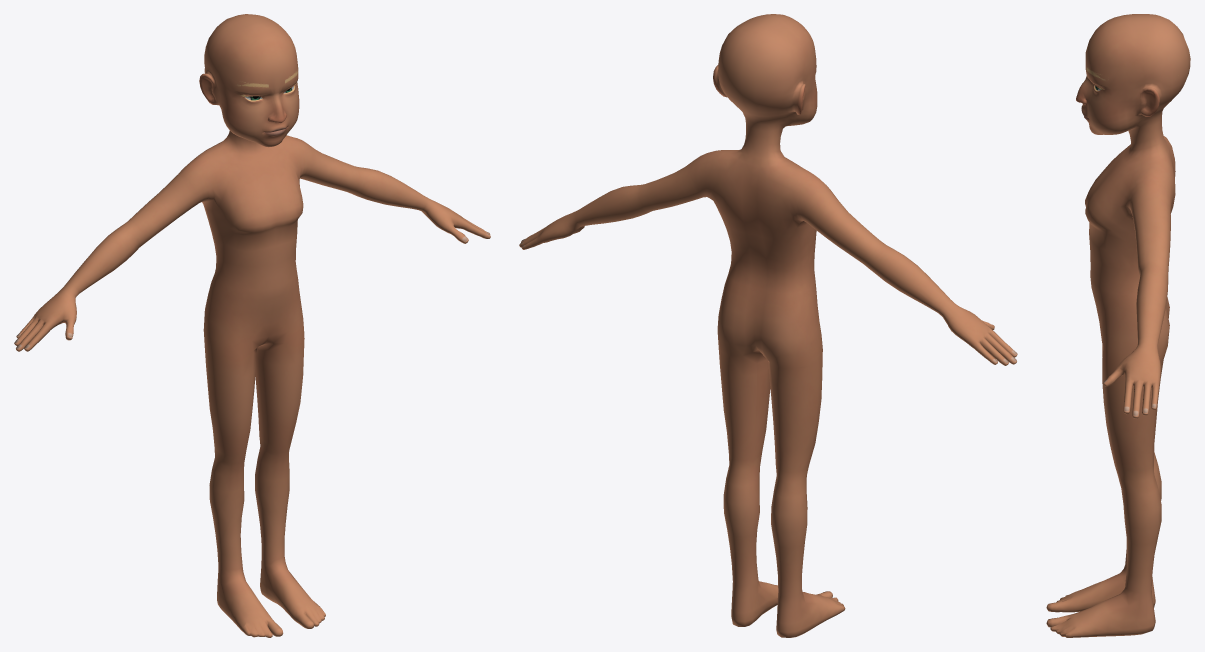
File: frame_0010.glb
The picture shows the model from 3 angles, left to right: view 1: azimuth 30°, elevation 25°; view 2: azimuth 150°, elevation 25°; view 3: azimuth 270°, elevation 25°; orthographic projection. The views are drawn at different scales.
Parts seen in each view (by area): view 1: frame_0010_head_geo; view 2: frame_0010_head_geo; view 3: frame_0010_head_geo.
Boxes of the visible parts, left/top/right/bottom form: frame_0010_head_geo: left=14, top=14, right=490, bottom=637; frame_0010_head_geo: left=519, top=14, right=1017, bottom=637; frame_0010_head_geo: left=1046, top=14, right=1190, bottom=637.
Bounding box in the file's own units: 1.28 × 1.5 × 0.3253.
3 materials, 3 textured.
